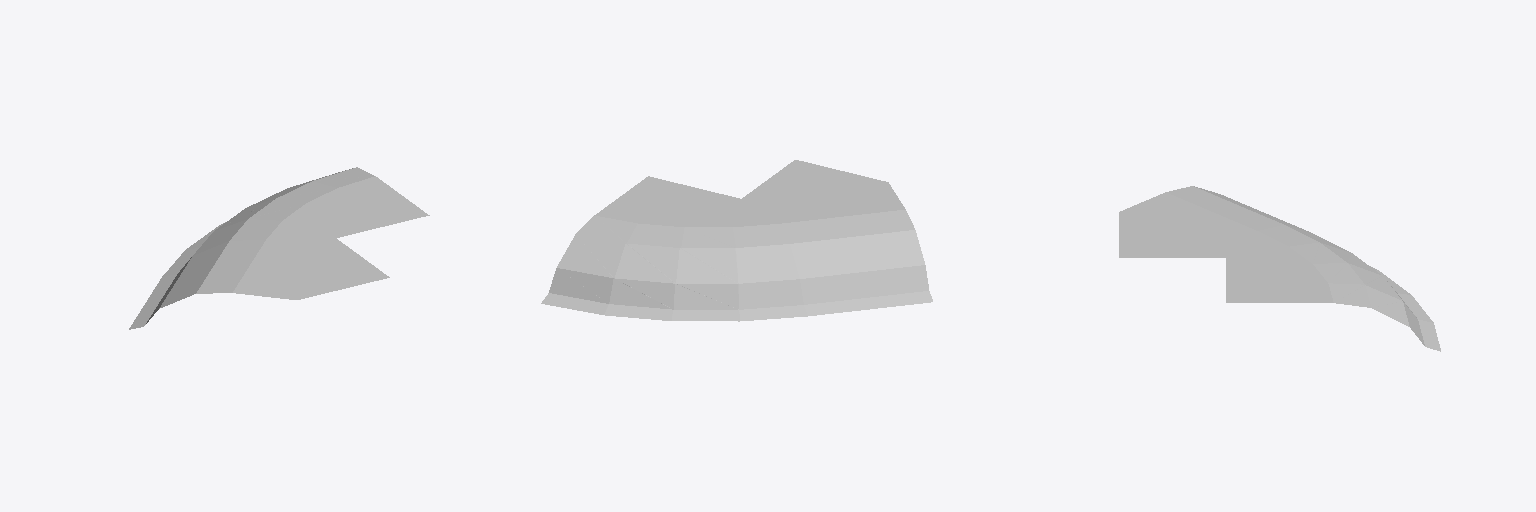
Rendered from Track_Angled_Curve_Inner_3x3.obj.
3 views of the same model, side by side, from view 1: azimuth 30°, elevation 25°; view 2: azimuth 150°, elevation 25°; view 3: azimuth 270°, elevation 25° (orthographic).
Parts seen in each view (by area): view 1: object1; view 2: object1; view 3: object1.
Part boxes in pixels (x1,y1,x2,y2): object1: (129,167,429,329); object1: (541,160,932,321); object1: (1119,186,1440,351).
Bounding box in the file's own units: 3.15 × 0.5 × 3.